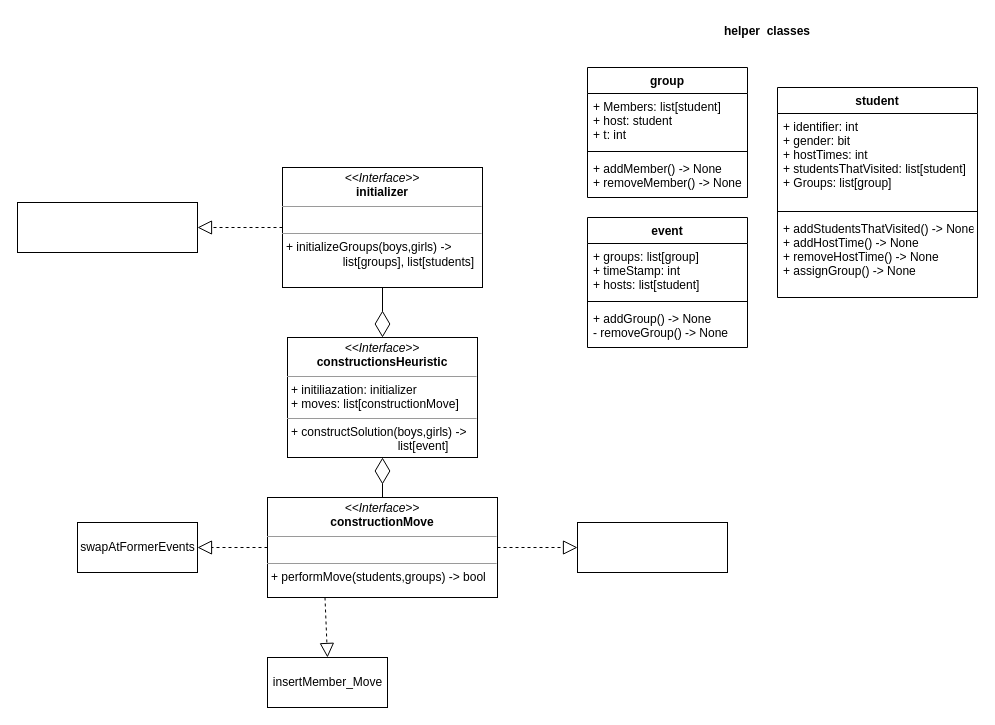
Image size: 995x725. Some labels were removed from this diagram. The shapes that lost their labels are listed below. From the top down, each one's centre as x and y in pixels, then its label:
At [107,227]: "maximizeDifferentHost_Initializer".
At [652,547]: "chainSwapMembers_Move".
